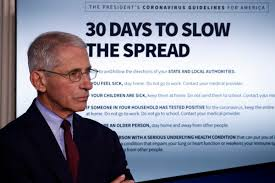unmasked: (27, 28, 95, 114)
